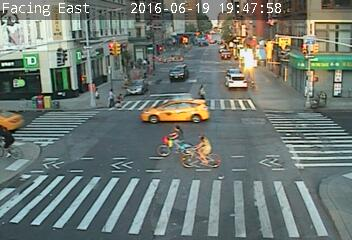neg: (150, 123, 178, 160), (187, 130, 214, 166), (270, 43, 296, 78), (204, 41, 223, 67), (168, 48, 185, 71)
pos: (194, 81, 211, 105), (102, 85, 118, 106), (91, 86, 103, 102)
